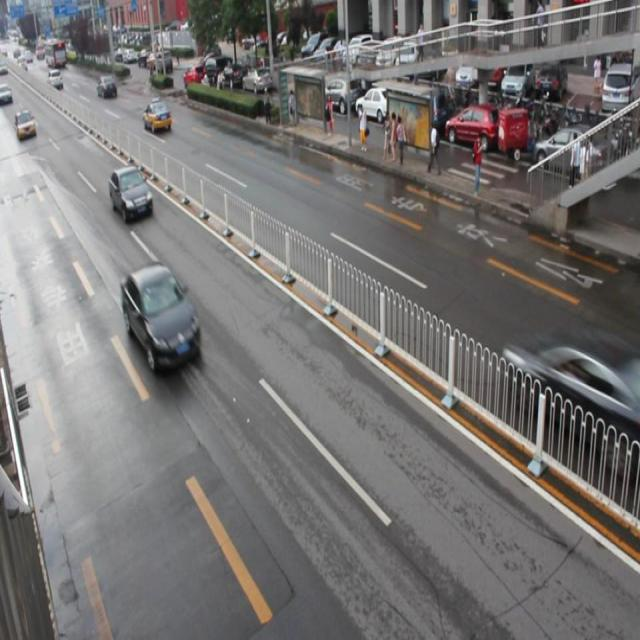car: (502, 322, 640, 476), (122, 259, 199, 373), (109, 164, 152, 224), (142, 98, 172, 134)
